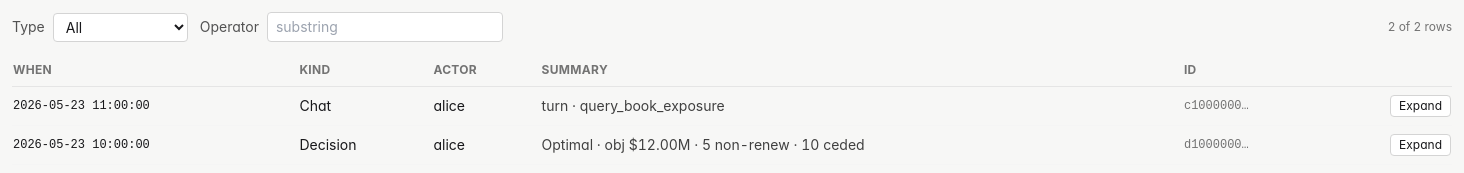
Scenario: <AuditLedger /> › type filter — "chat only" hides decision rows
This screenshot has width=1464, height=173.
Select "Chat only" in the dropdown with test id "audit-filter-type": point(120, 27) [53,12,188,42]
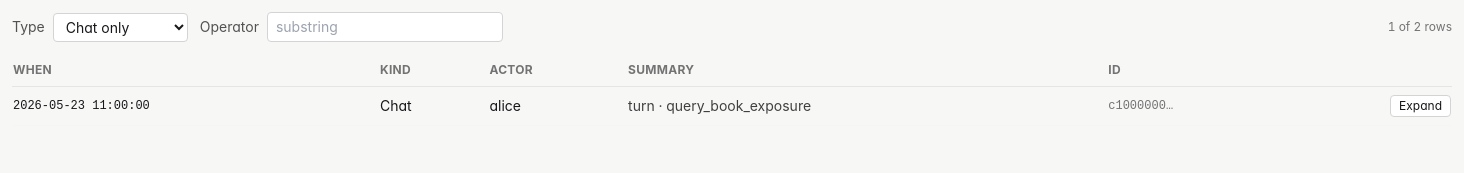
Check: the text "Chat" is shown, box [379,86,488,126]
Check: the number of rows with test id "audit-row" is 1, box [12,86,1452,126]
